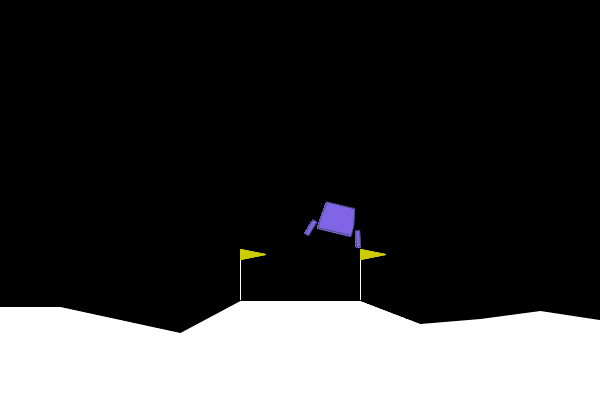lander: (303, 197, 370, 250)
